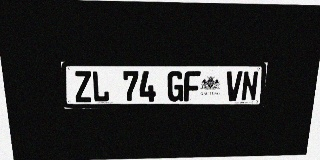4: (139, 71, 156, 102)
7: (122, 71, 139, 102)
F: (184, 71, 201, 101)
G: (167, 71, 184, 102)
L: (91, 71, 109, 102)
N: (241, 71, 259, 101)
V: (225, 71, 243, 101)
Z: (74, 71, 92, 102)
